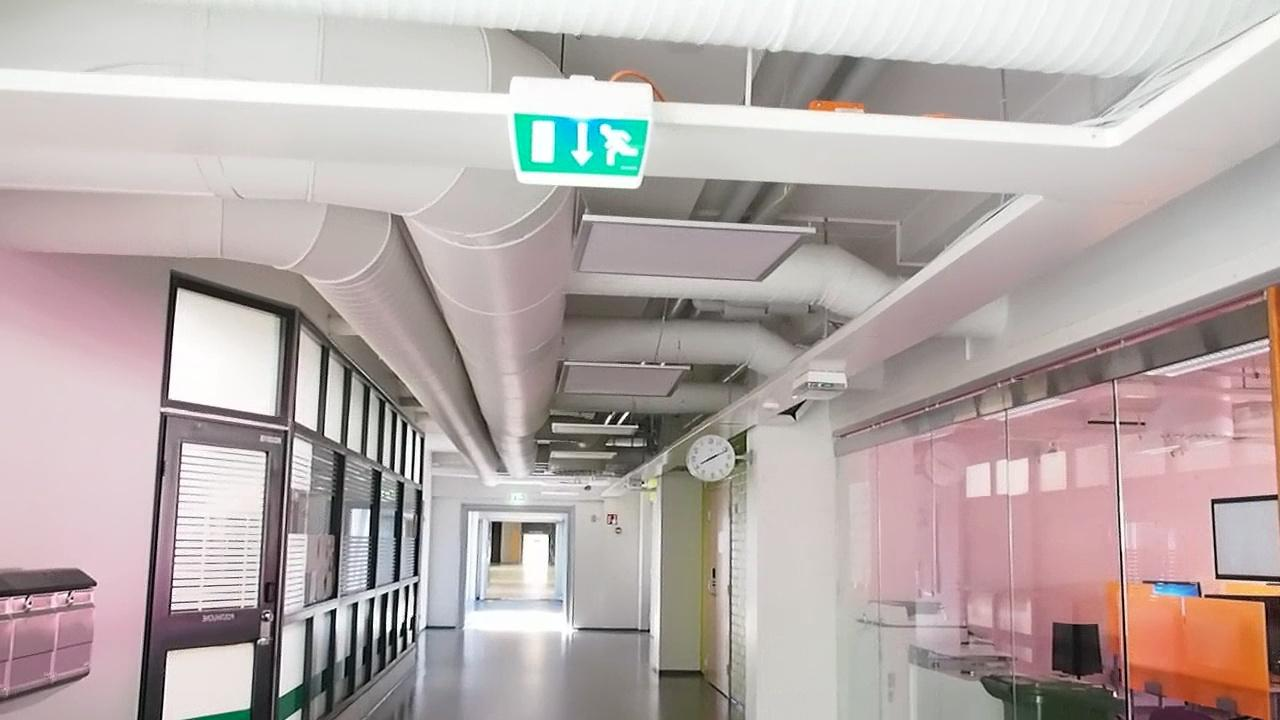exit: (513, 105, 652, 182)
